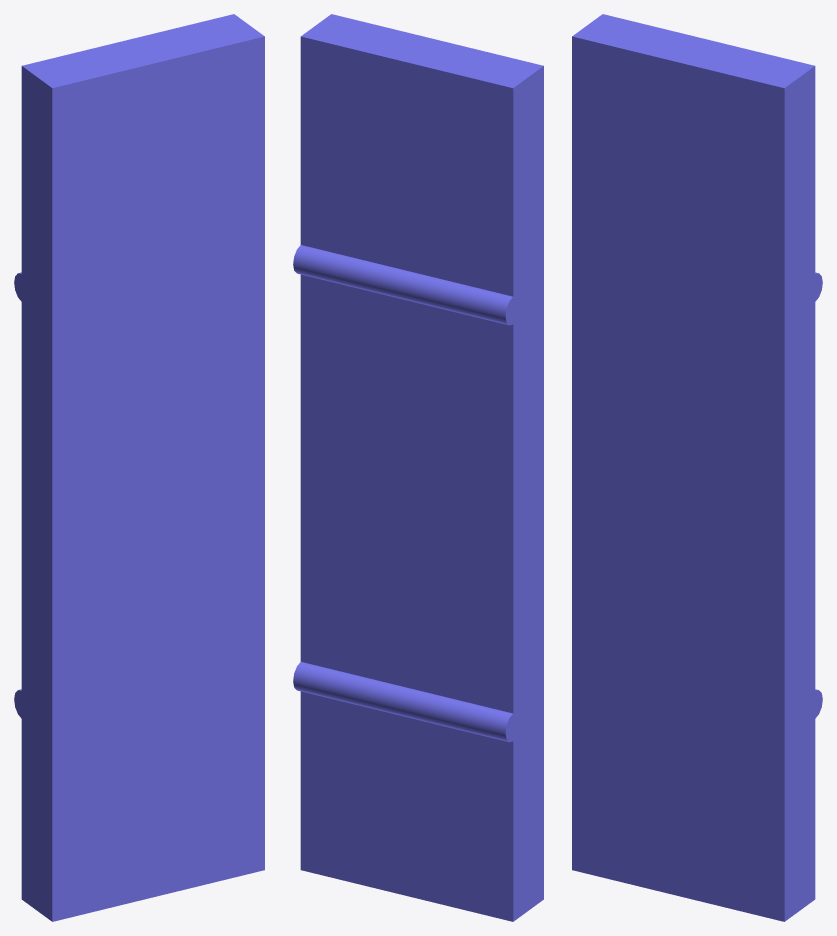
The model's file is chassis_visual.obj.
3 renders of one model, left to right at view 1: azimuth 30°, elevation 25°; view 2: azimuth 150°, elevation 25°; view 3: azimuth 330°, elevation 25°, orthographic.
Visible parts, largest first — view 1: chassis; view 2: chassis; view 3: chassis.
Boxes of the visible parts, x1,y1,x2,y2 form: chassis: [14, 14, 264, 921]; chassis: [293, 14, 543, 921]; chassis: [572, 14, 822, 921].
Bounding box in the file's own units: 8 × 30 × 2.5.
